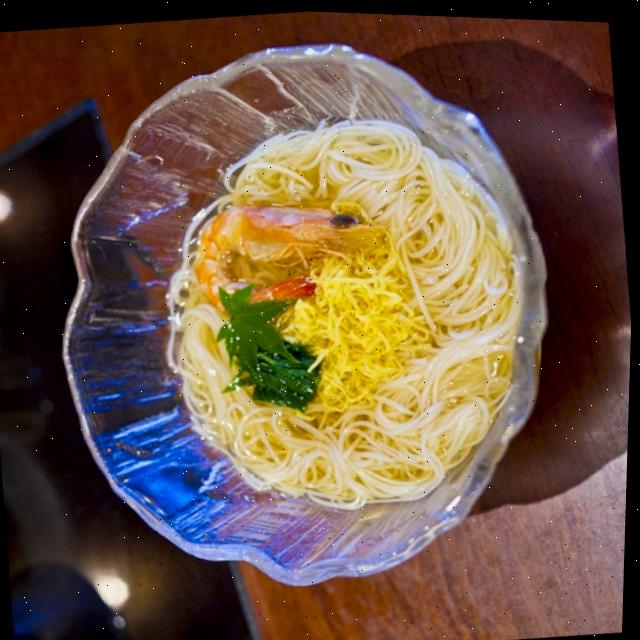面条主食: (4, 11, 594, 623)
